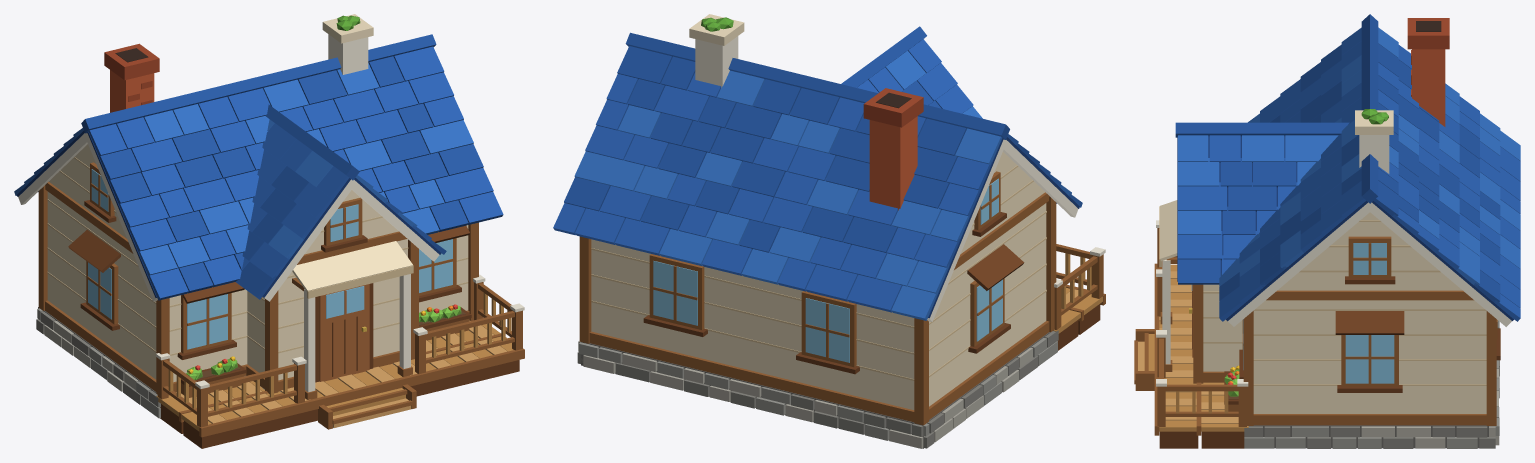
File: house-3.glb
3 renders of one model, left to right at view 1: azimuth 30°, elevation 25°; view 2: azimuth 150°, elevation 25°; view 3: azimuth 270°, elevation 25°, orthographic. The views are drawn at different scales.
Parts seen in each view (by area): view 1: H3_Roof, H3_Porch, H3_Walls, H3_Openings, H3_Timber, H3_Props, H3_Foundation; view 2: H3_Roof, H3_Walls, H3_Openings, H3_Foundation, H3_Timber, H3_Props, H3_Porch; view 3: H3_Roof, H3_Walls, H3_Porch, H3_Timber, H3_Openings, H3_Foundation, H3_Props.
Part boxes in pixels (x1,y1,x2,y2): H3_Roof: [14, 34, 503, 301]; H3_Porch: [156, 241, 524, 448]; H3_Walls: [47, 144, 468, 382]; H3_Openings: [68, 162, 469, 382]; H3_Timber: [38, 181, 478, 395]; H3_Props: [104, 14, 471, 397]; H3_Foundation: [36, 307, 393, 418]; H3_Roof: [553, 26, 1082, 321]; H3_Walls: [591, 152, 1046, 409]; H3_Openings: [643, 171, 1024, 374]; H3_Foundation: [577, 330, 1058, 448]; H3_Timber: [579, 192, 1056, 425]; H3_Props: [689, 14, 923, 210]; H3_Porch: [1053, 244, 1105, 350]; H3_Roof: [1175, 14, 1520, 326]; H3_Walls: [1203, 212, 1486, 413]; H3_Porch: [1134, 200, 1248, 448]; H3_Timber: [1193, 284, 1496, 425]; H3_Openings: [1189, 236, 1500, 392]; H3_Foundation: [1244, 320, 1499, 448]; H3_Props: [1224, 18, 1449, 411].
Size of the model in its own units: 4.95 by 3.99 by 4.61.
